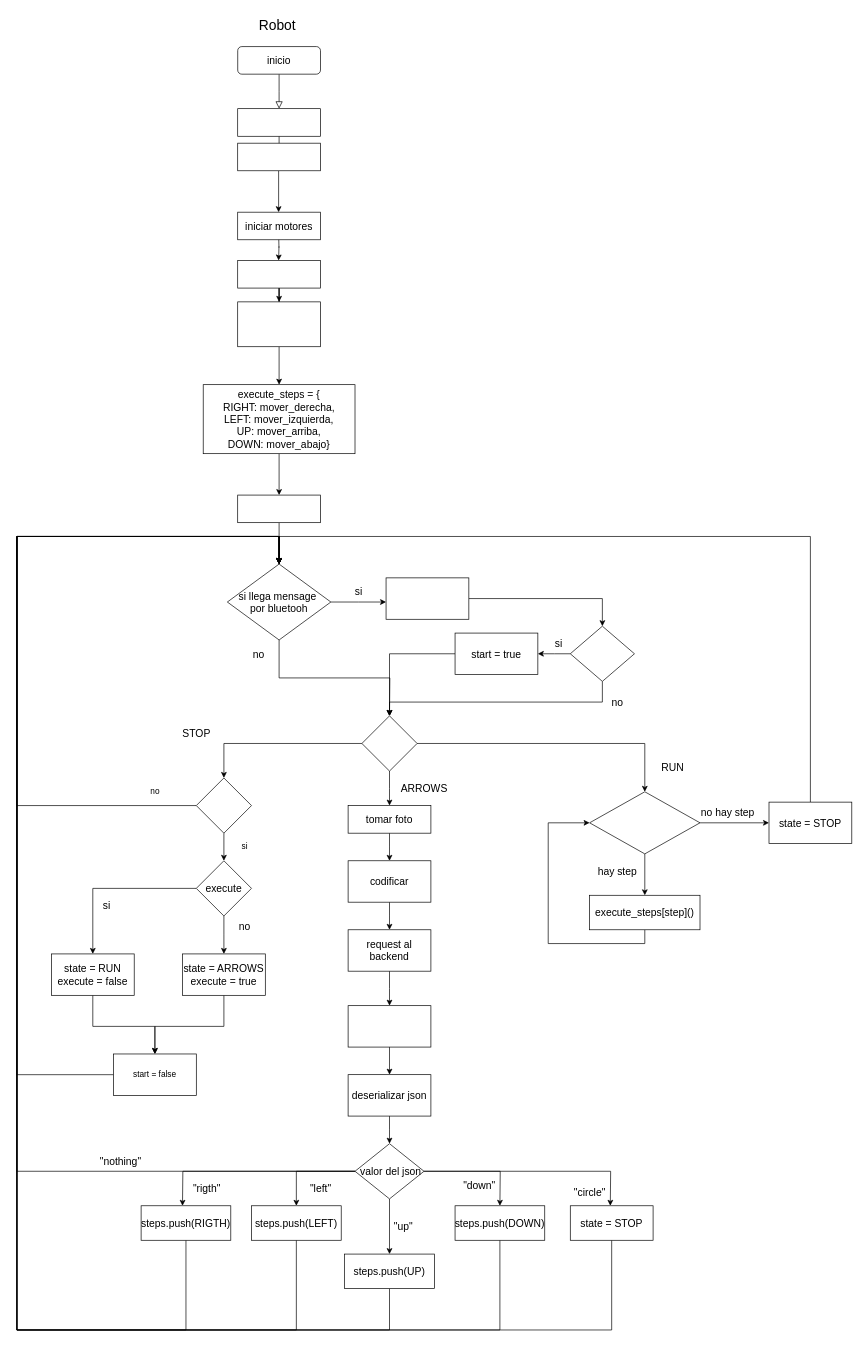
Image size: 864x1348. Some labels were removed from this diagram. The box of each missing label's shape, as (x1, y1, x2, y2) in pixels:
for step : steps: (589, 791, 700, 854)
in == "start": (570, 625, 634, 681)
iniciar bluetooth: (237, 108, 321, 136)
iniciar camara: (237, 260, 321, 288)
iniciar wifi: (237, 142, 321, 171)
recibir json: (347, 1005, 431, 1047)
se almacena en la variable "in": (385, 577, 469, 619)
start: (196, 777, 252, 833)
start = false state = STOP execute = false: (237, 301, 321, 347)
state: (361, 715, 417, 771)
vector steps: (237, 494, 321, 523)
